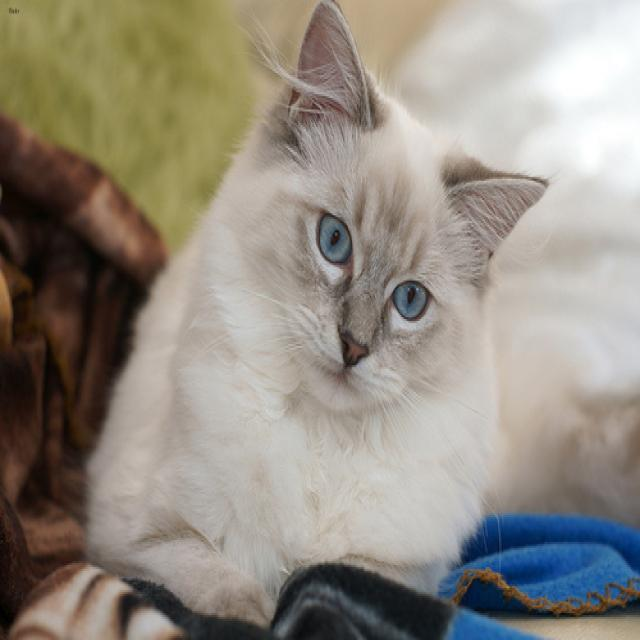Ragdoll: (214, 0, 550, 429)
